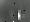person: (20, 11, 26, 21)
